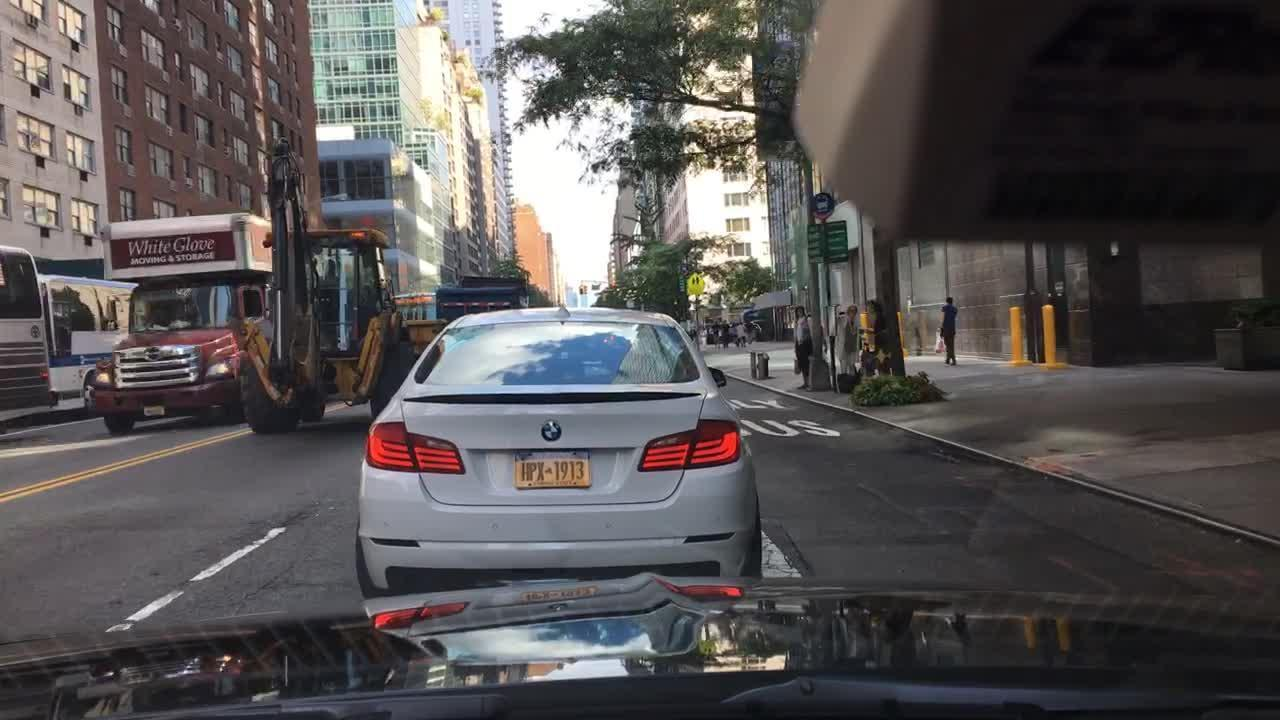bmw: (541, 417, 568, 446)
